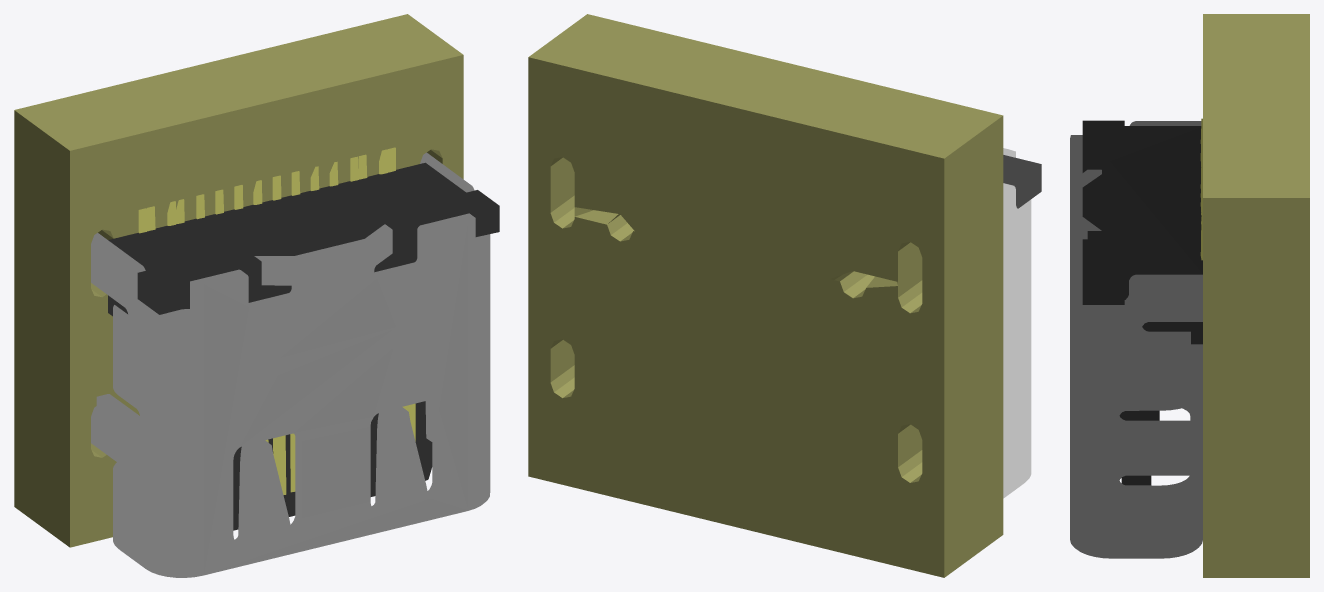
File: OBJ_NEW_PCB.obj
3 views of the same model, side by side, from view 1: azimuth 30°, elevation 25°; view 2: azimuth 150°, elevation 25°; view 3: azimuth 270°, elevation 25° (orthographic). The views are drawn at different scales.
Bounding box in the file's own units: 40.71 × 39.21 × 22.44.
